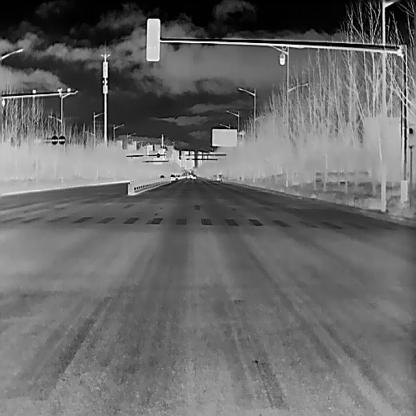car: (169, 173, 174, 180), (191, 173, 196, 178), (158, 174, 164, 177)
